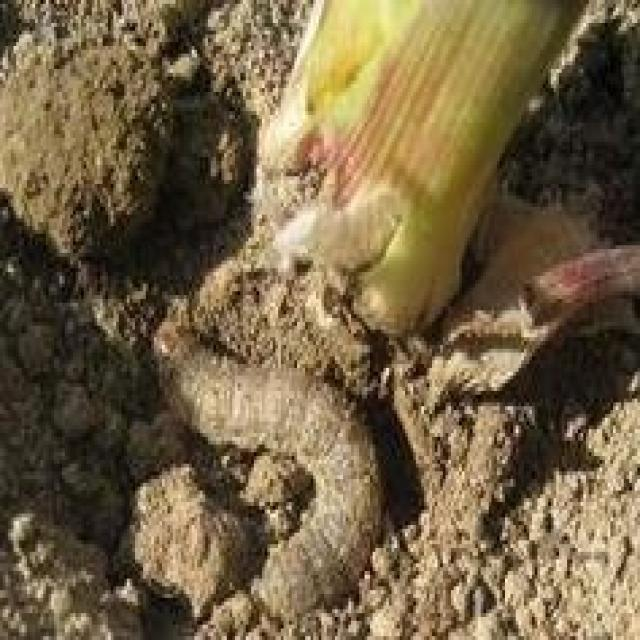black cutworm: (138, 311, 400, 626)
